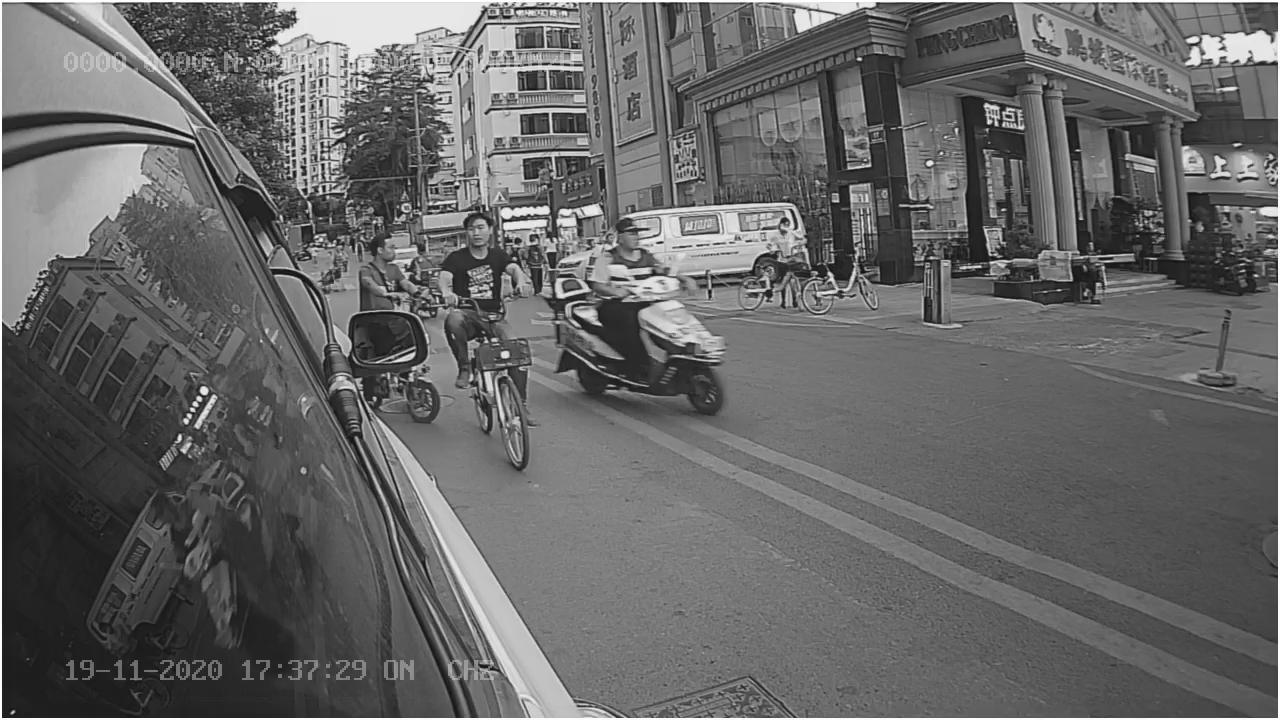person: (436, 215, 530, 299)
